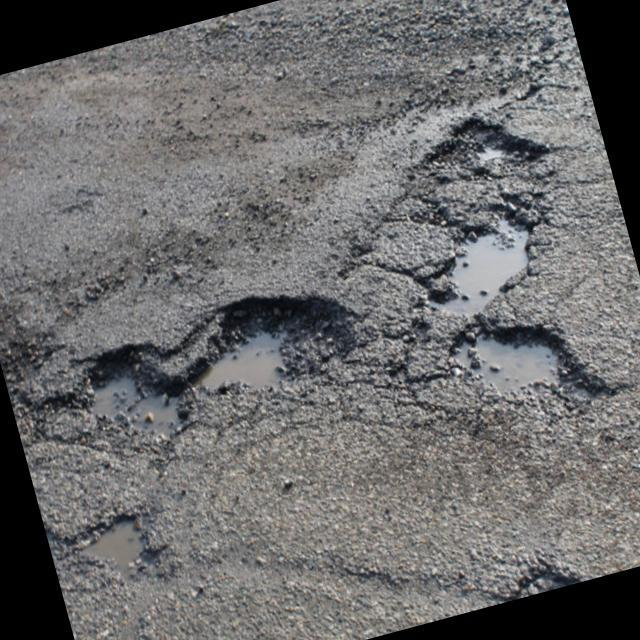Pothole: (326, 56, 628, 470), (19, 250, 380, 450), (52, 470, 216, 618)
